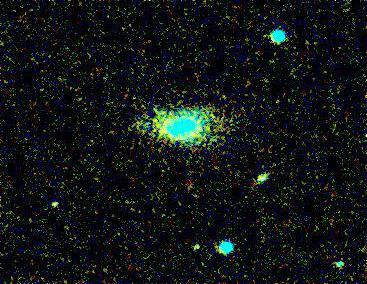star: (39, 189, 69, 219)
